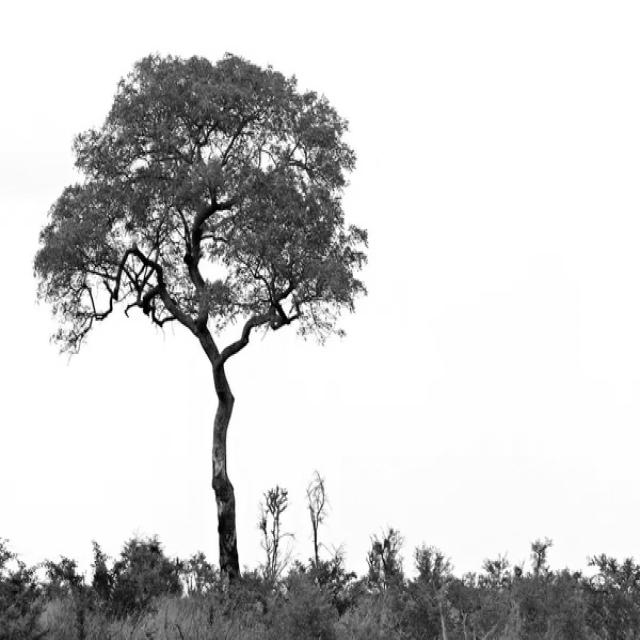Tree: (34, 53, 367, 580)
